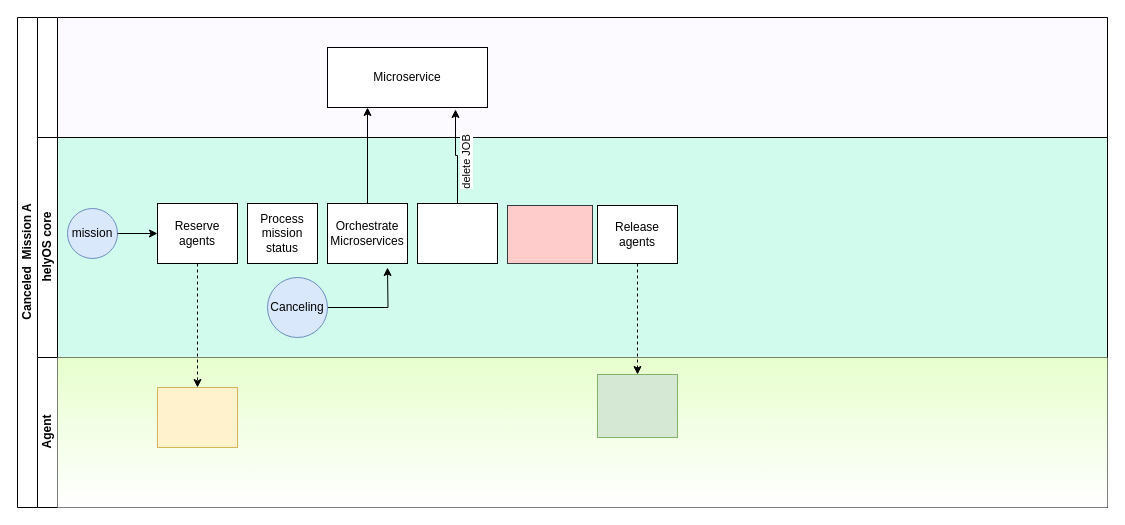
Some shapes in this 1125 by 525 pixel diagram are drawn without their labels. Each missing label, with the box of its shape:
Canceling calculations: (416, 202, 498, 264)
Change its own state to "free": (596, 374, 678, 438)
Change its own state to "ready": (156, 386, 238, 448)
Mark mission as "canceled": (506, 204, 592, 264)
Microservices: (36, 16, 1108, 138)
